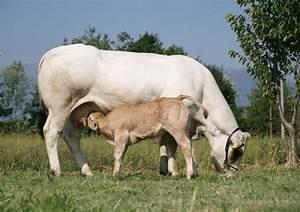cow: (36, 42, 251, 179), (83, 94, 210, 179)
